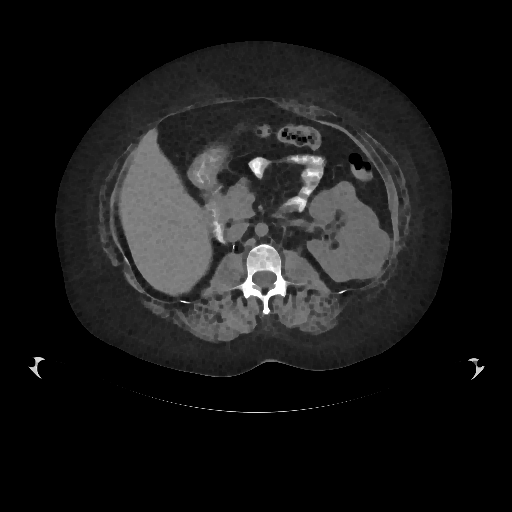Lesion: (343, 219, 392, 283)
